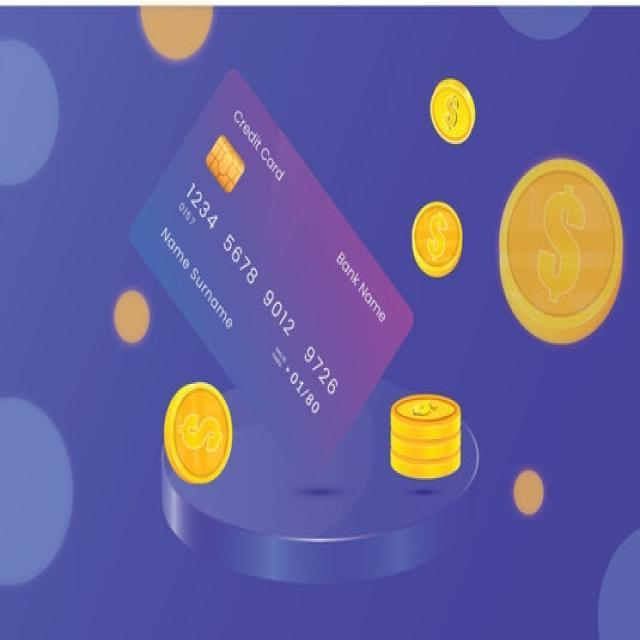payment_card: (127, 66, 415, 478)
